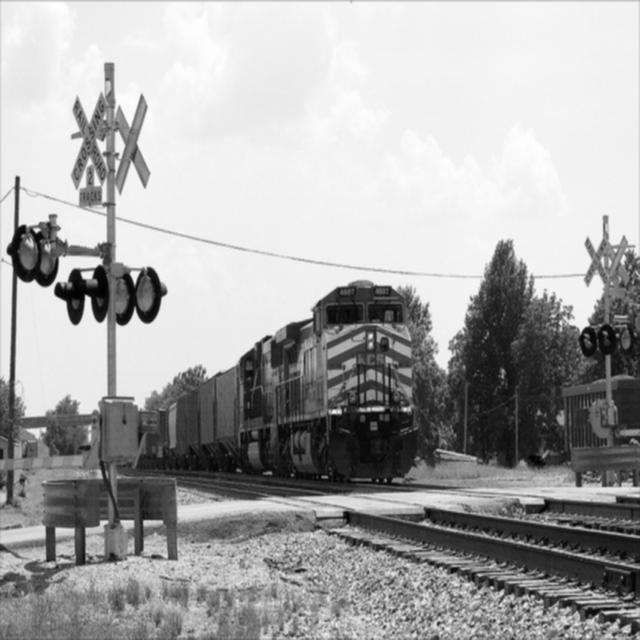pole: (101, 58, 123, 524)
